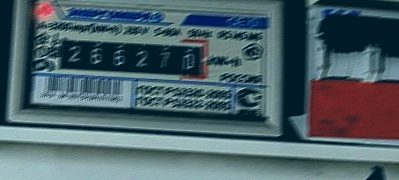0: (181, 54, 194, 71)
2: (66, 45, 80, 64), (135, 50, 147, 69)
6: (89, 47, 102, 66), (112, 50, 125, 68)
7: (158, 51, 170, 70)
screen: (48, 29, 213, 87)
